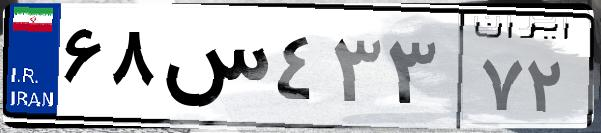2: (525, 38, 570, 115)
3: (385, 28, 445, 110), (330, 28, 385, 110)
4: (270, 28, 330, 110)
6: (57, 26, 110, 100)
7: (475, 38, 525, 113)
8: (110, 28, 158, 98)
س: (158, 20, 270, 120)
